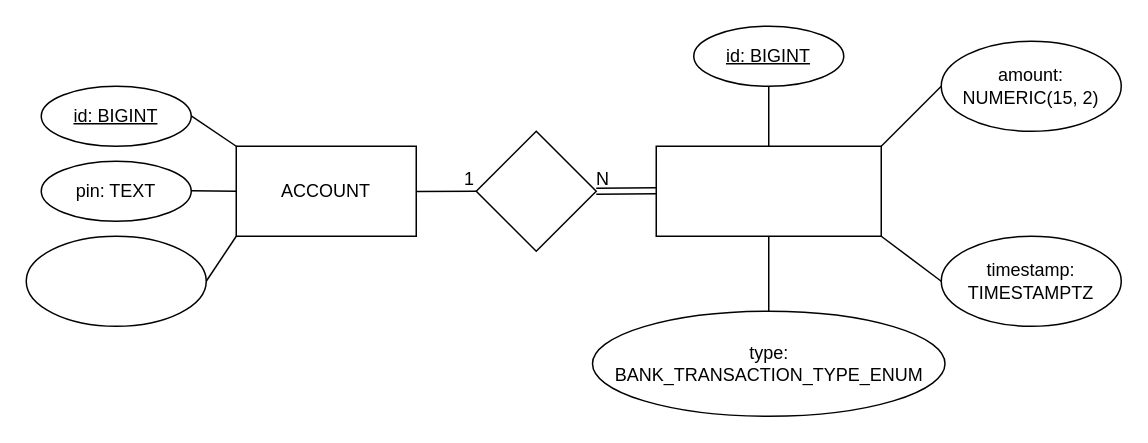
The diagram is 1148 pixels wide and 443 high, and some of its shapes have lost their labels. The centre of each missing label's shape, as x and y in pixels:
balance: NUMERIC(15, 2): [115,280]
BANK_TRANSACTION: [768,190]
HAS: [535,190]
